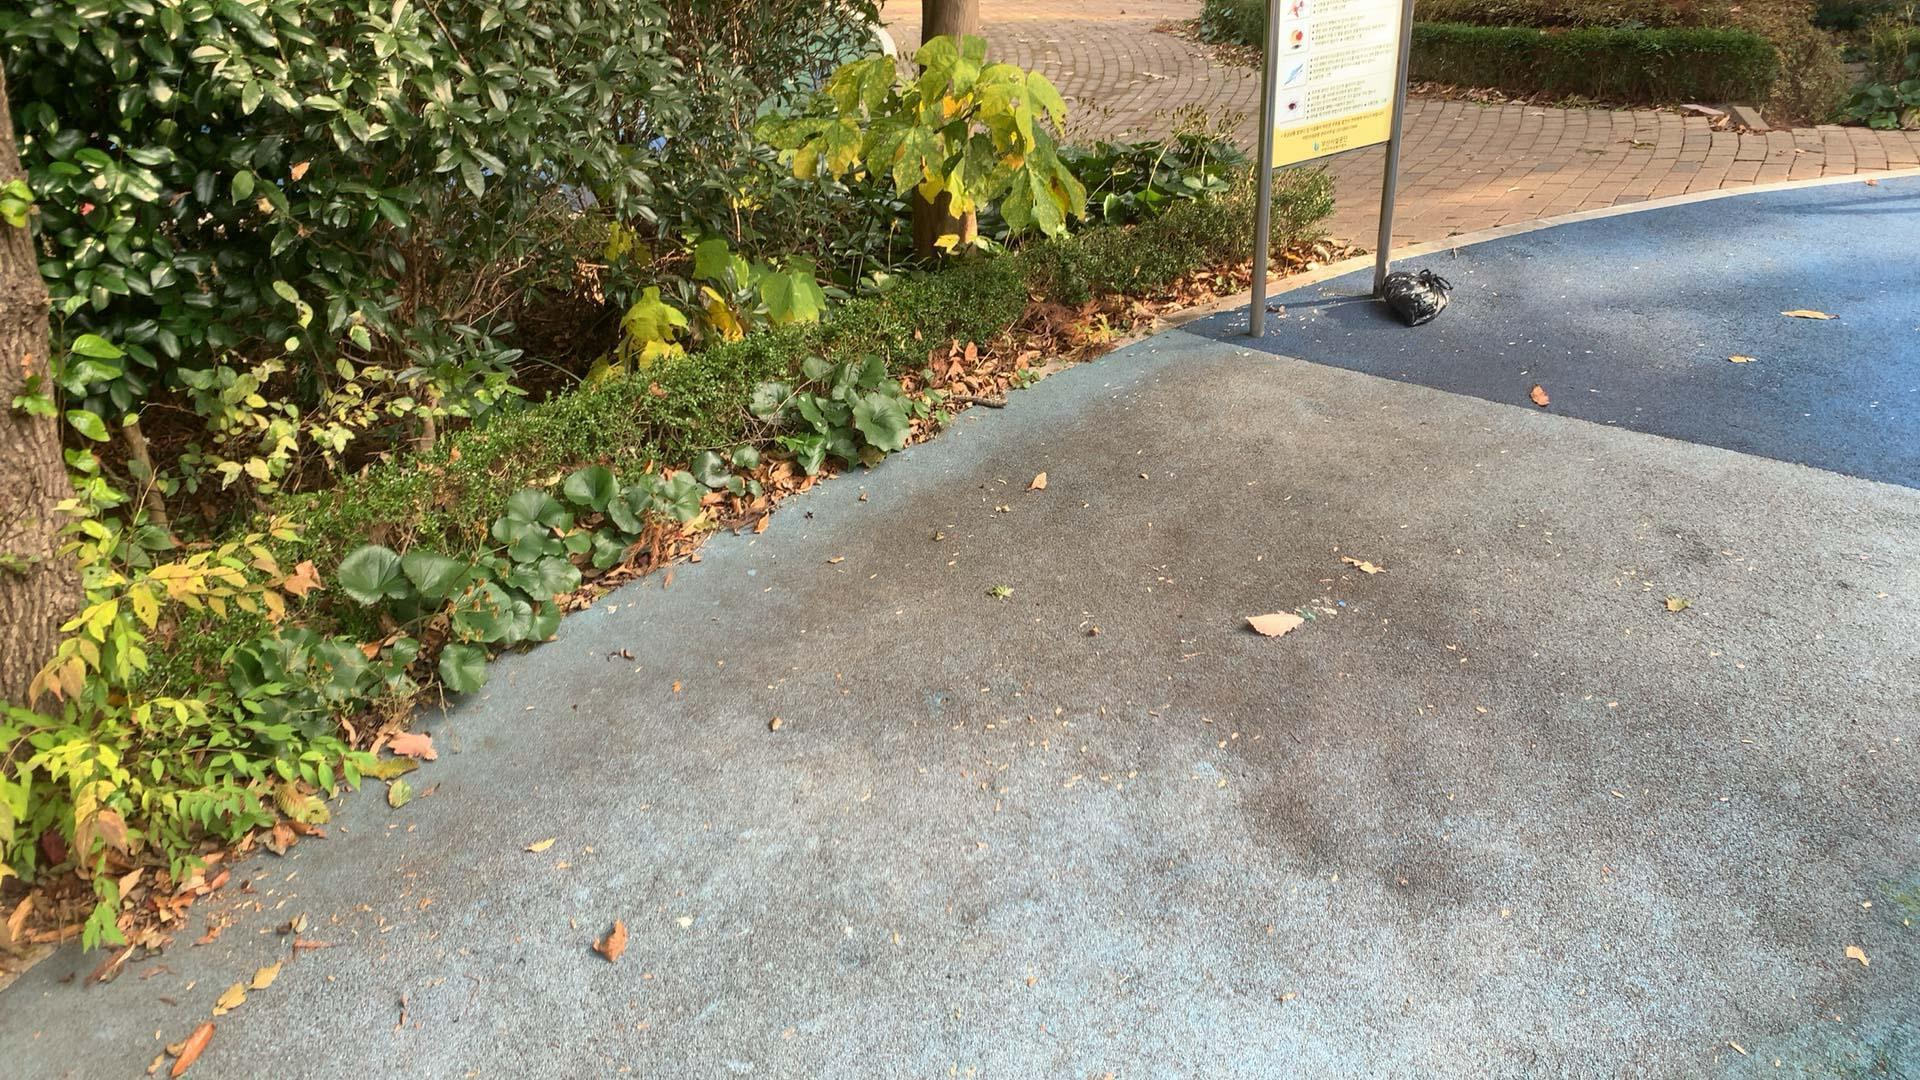black_bag: (1378, 262, 1457, 328)
